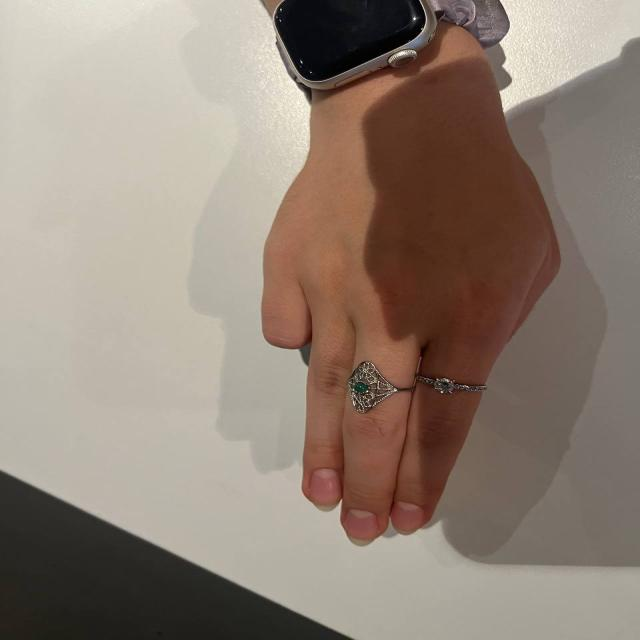t: (249, 128, 580, 550)
